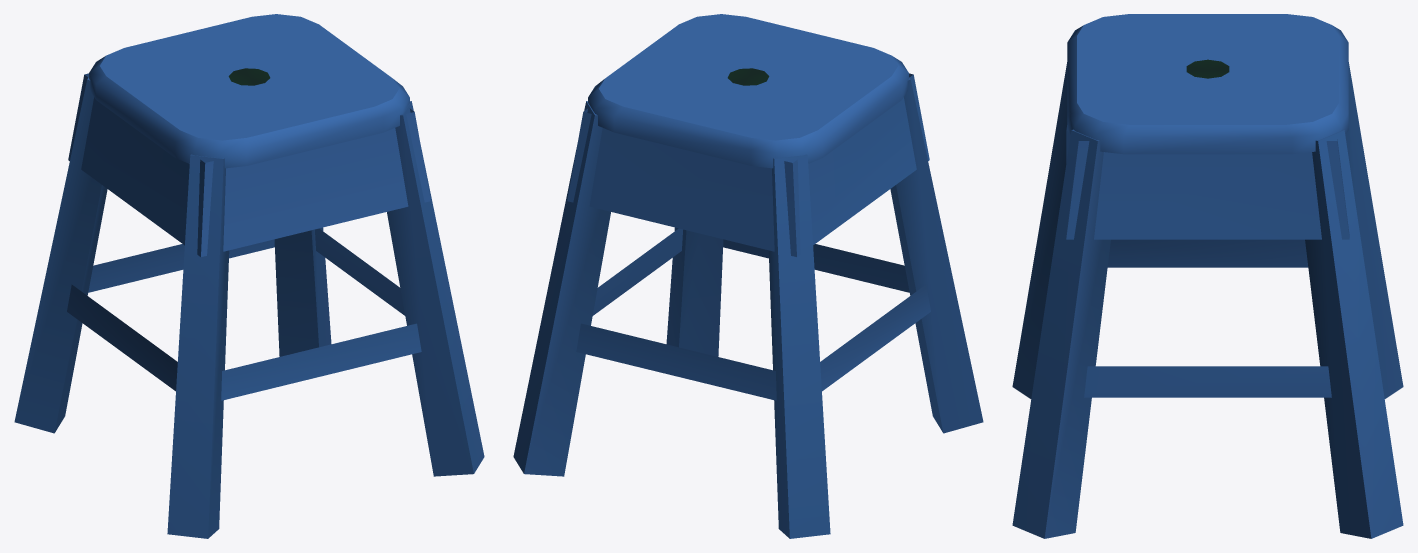
The model's file is ghe-dau-nhua-xanh.glb.
The picture shows the model from 3 angles, left to right: view 1: azimuth 30°, elevation 25°; view 2: azimuth 150°, elevation 25°; view 3: azimuth 270°, elevation 25°; orthographic projection. The views are drawn at different scales.
Visible parts, largest first — view 1: ghe-dau-nhua-xanh; view 2: ghe-dau-nhua-xanh; view 3: ghe-dau-nhua-xanh.
Part boxes in pixels (x1=…): ghe-dau-nhua-xanh: x1=14, y1=14, x2=484, y2=538; ghe-dau-nhua-xanh: x1=513, y1=14, x2=983, y2=538; ghe-dau-nhua-xanh: x1=1012, y1=14, x2=1403, y2=538.
Bounding box in the file's own units: 0.4174 × 0.4647 × 0.4174.
